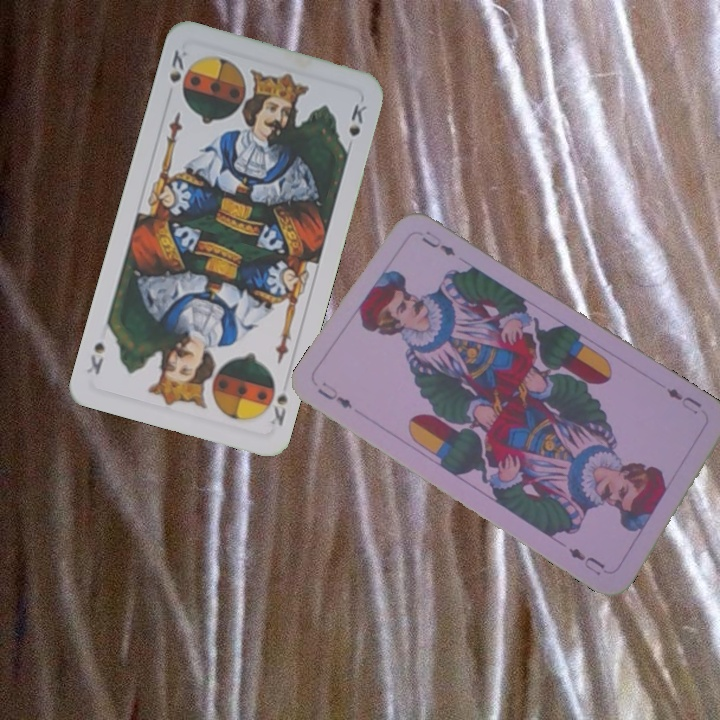EU: (662, 383, 705, 417), (313, 378, 355, 411)
SK: (266, 387, 291, 429), (165, 45, 190, 85)
